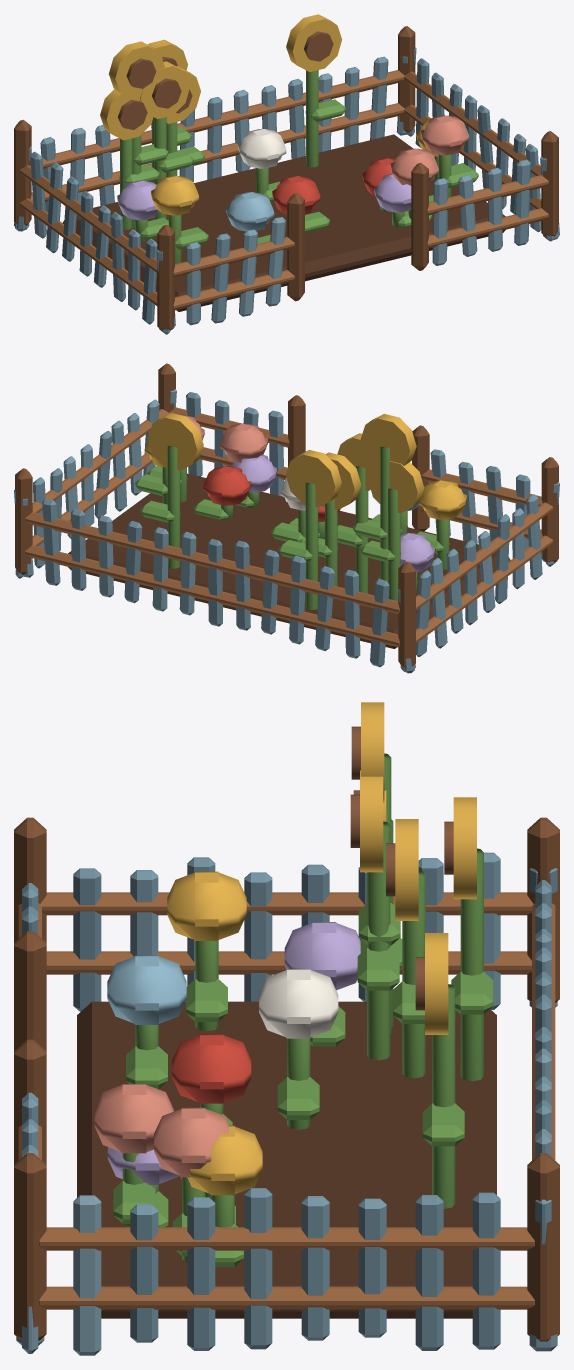
Rendered from garden_pip.glb.
3 views of the same model, one above another, from view 1: azimuth 30°, elevation 25°; view 2: azimuth 150°, elevation 25°; view 3: azimuth 270°, elevation 25° (orthographic). The views are drawn at different scales.
Visible parts, largest first — view 1: body; view 2: body; view 3: body.
Boxes of the visible parts, x1,y1,x2,y2 form: body: (14,14,559,334); body: (14,363,559,673); body: (14,702,559,1355).
Bounding box in the file's own units: 3.57 × 1.73 × 2.34.
